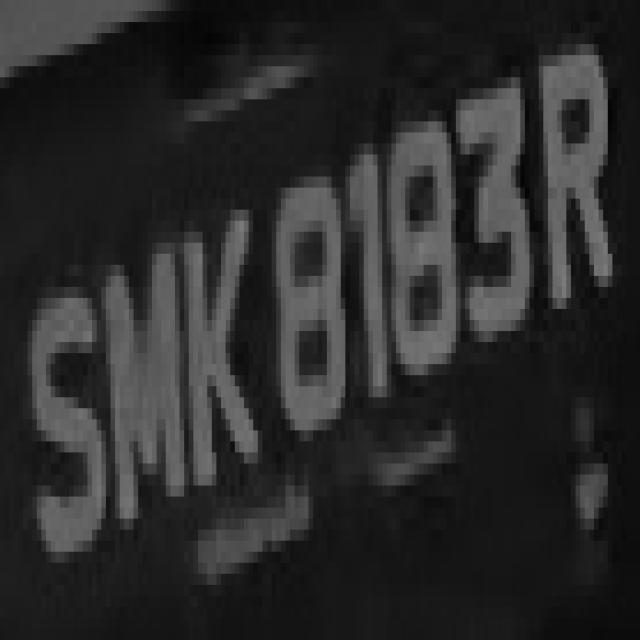1: (327, 132, 396, 408)
3: (446, 88, 530, 375)
8: (378, 132, 470, 442), (262, 176, 346, 452)
K: (175, 210, 267, 518)
M: (97, 242, 184, 530)
R: (525, 44, 617, 364)
S: (19, 265, 115, 563)
